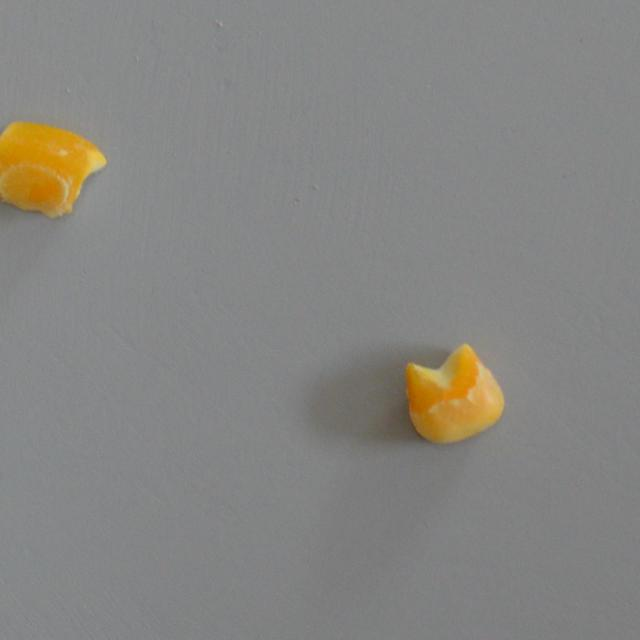pelicula: (399, 339, 511, 448), (0, 117, 114, 222)
